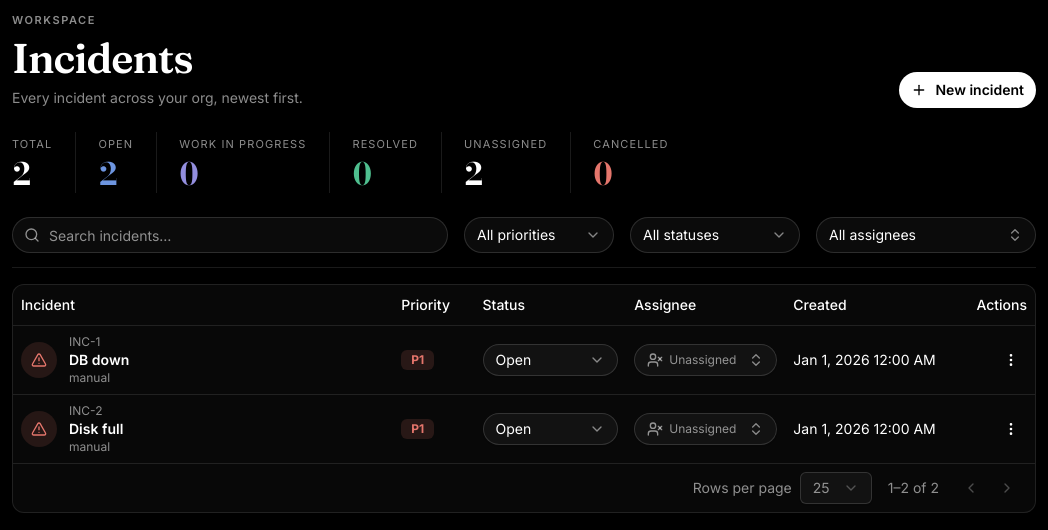
Test: IncidentsListPage — stats and rows › filters by search text
The width and height of the screenshot is (1048, 530).
Type "disk" into the field with placeholder "Search incidents…".
click(230, 235); type("disk")  # box top-left (12, 217), bottom-right (448, 253)
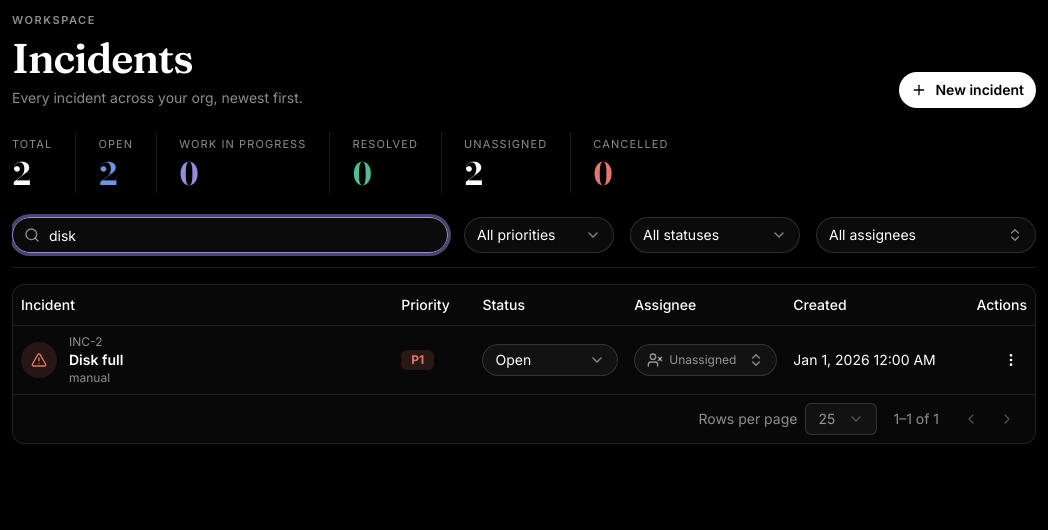
Expected: the text "Disk full" is shown, top-left (69, 350), bottom-right (123, 370)
Expected: the text "DB down" is gone
